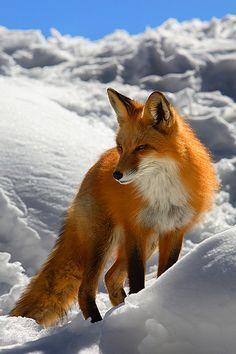fox: (19, 86, 222, 334)
